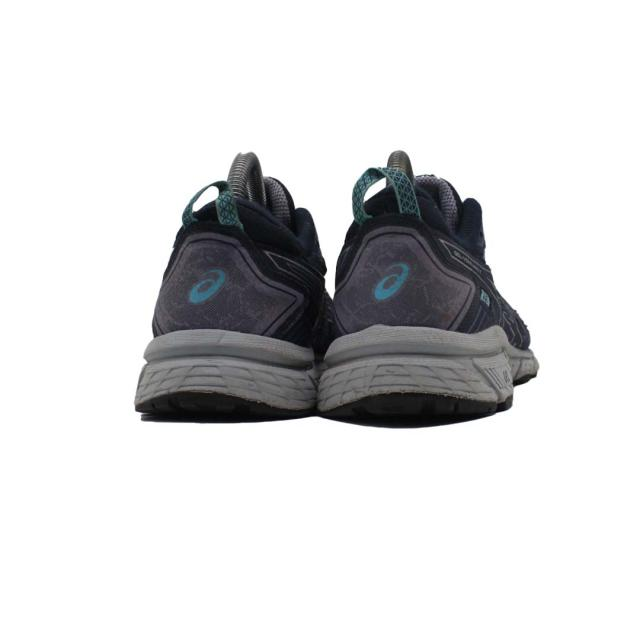heel: (157, 186, 307, 345), (334, 181, 490, 330)
midsole: (143, 338, 517, 412)
